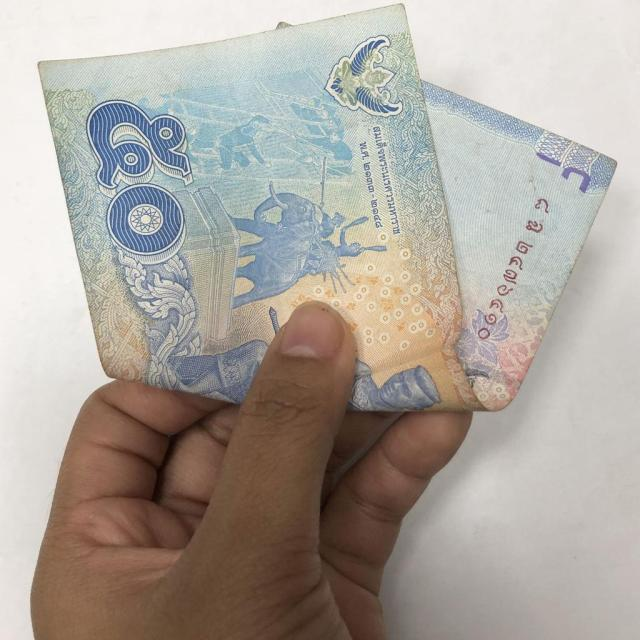THAI50: (38, 4, 616, 412)
